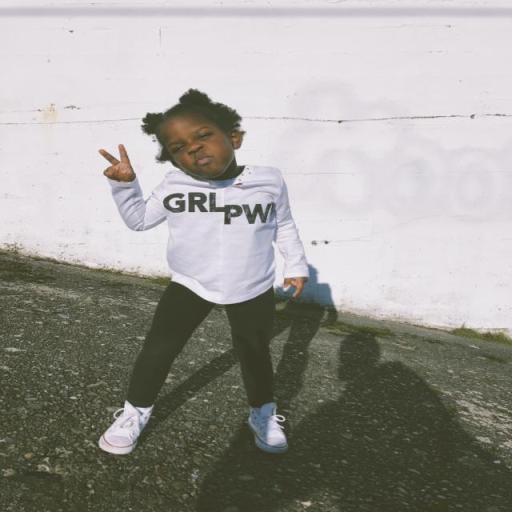Persona: (101, 94, 312, 464)
